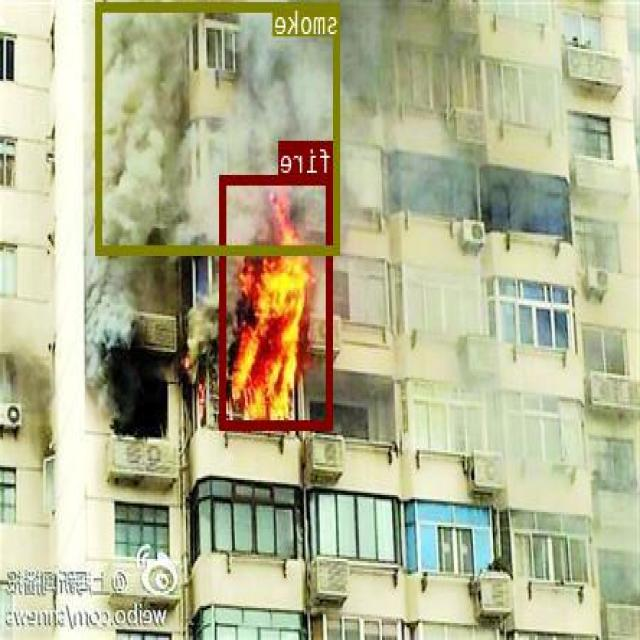fire: (222, 173, 334, 427)
smoke: (97, 2, 340, 252)
